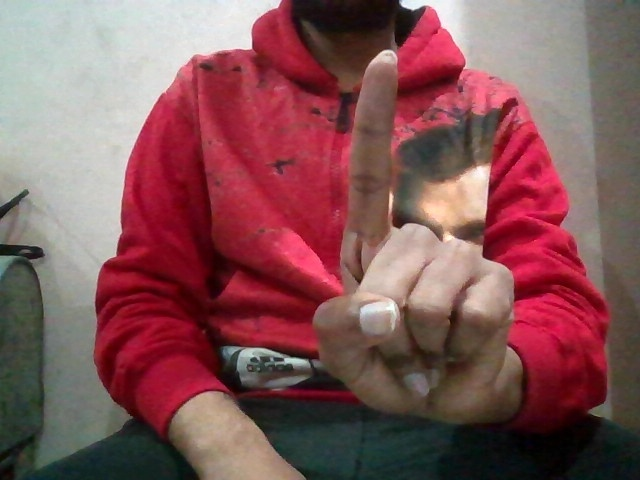D: (313, 42, 527, 431)
